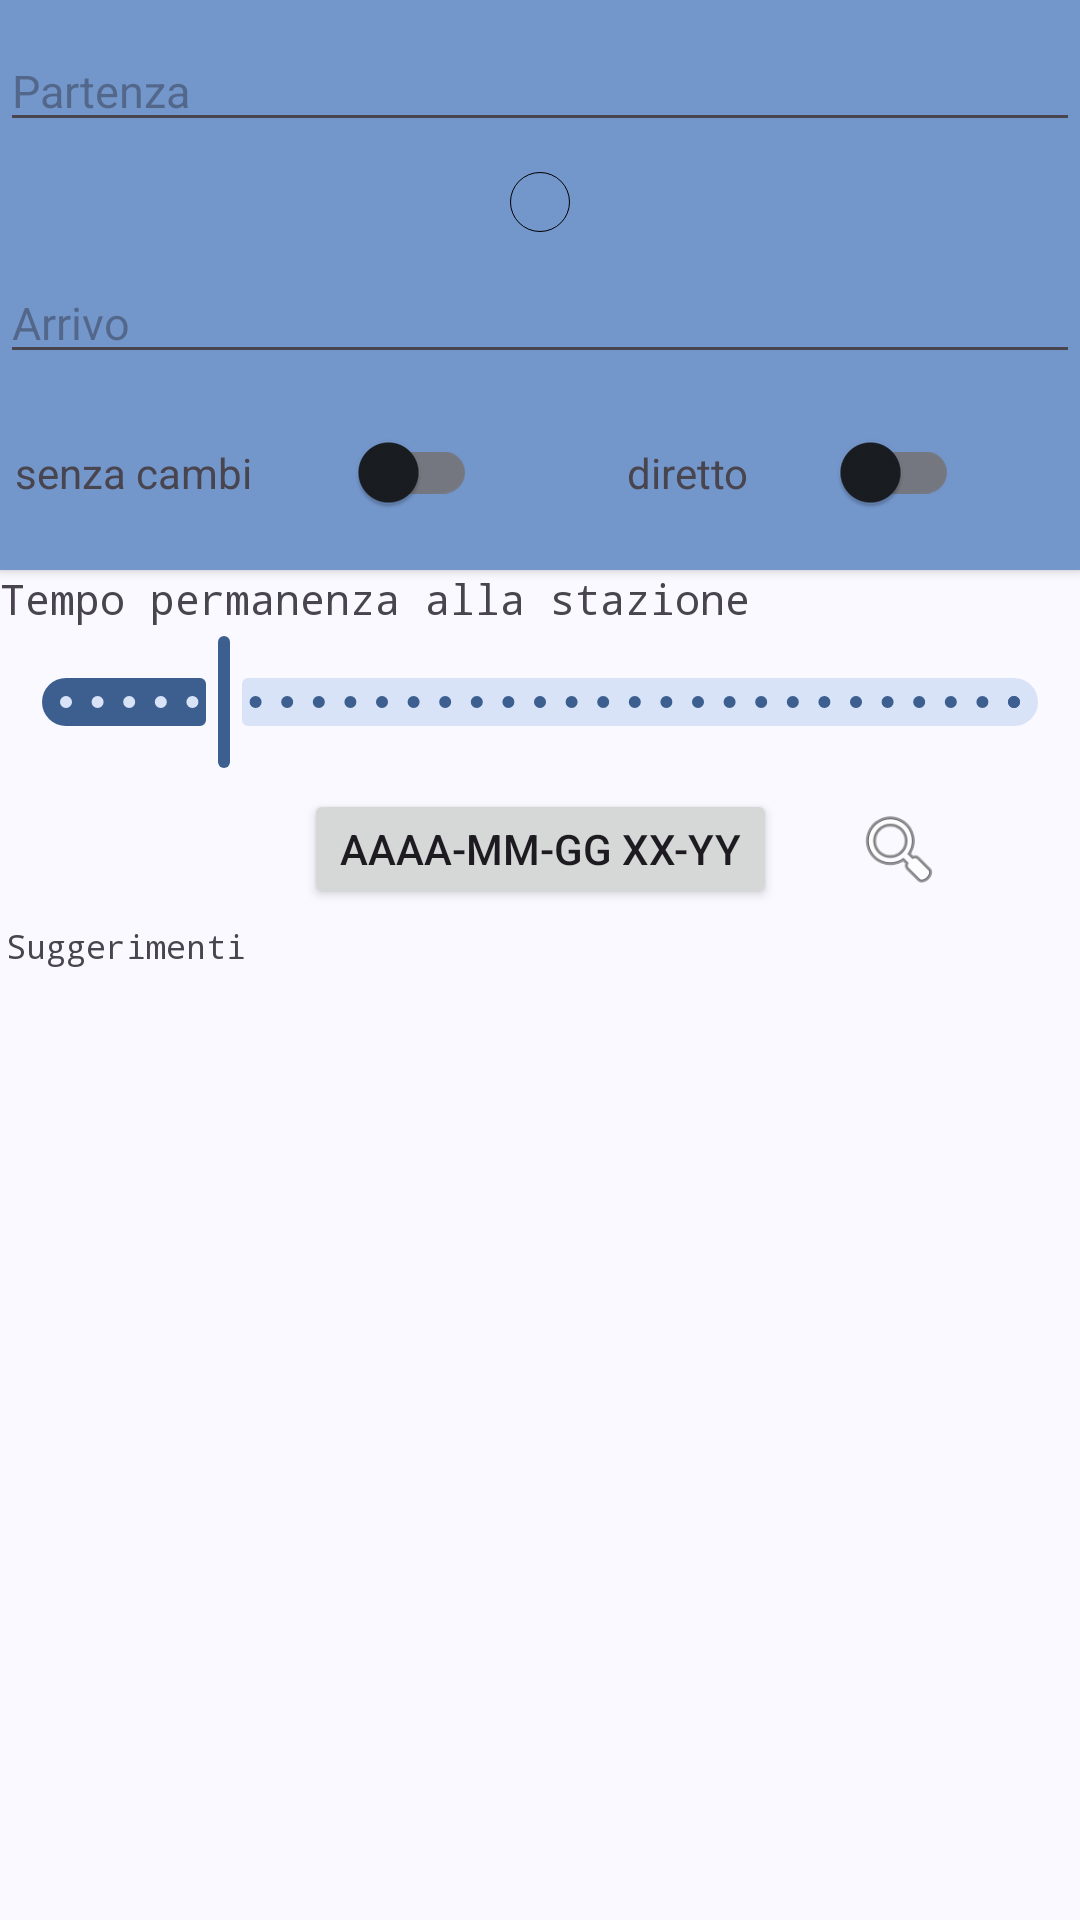

Named icons in this screenshot (1080x1920) and their centers, (x,y):
search: (899,849)
